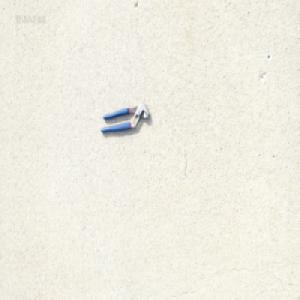Pliers: (100, 101, 151, 135)
